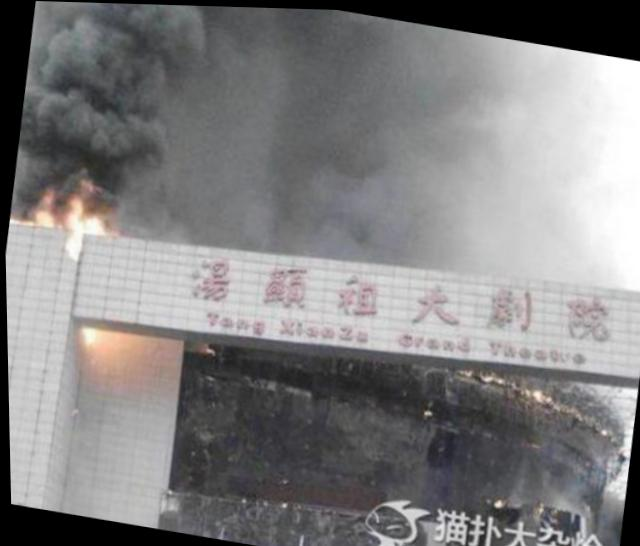fire: (57, 195, 87, 259), (30, 184, 59, 223), (75, 323, 100, 345), (81, 213, 101, 233)
